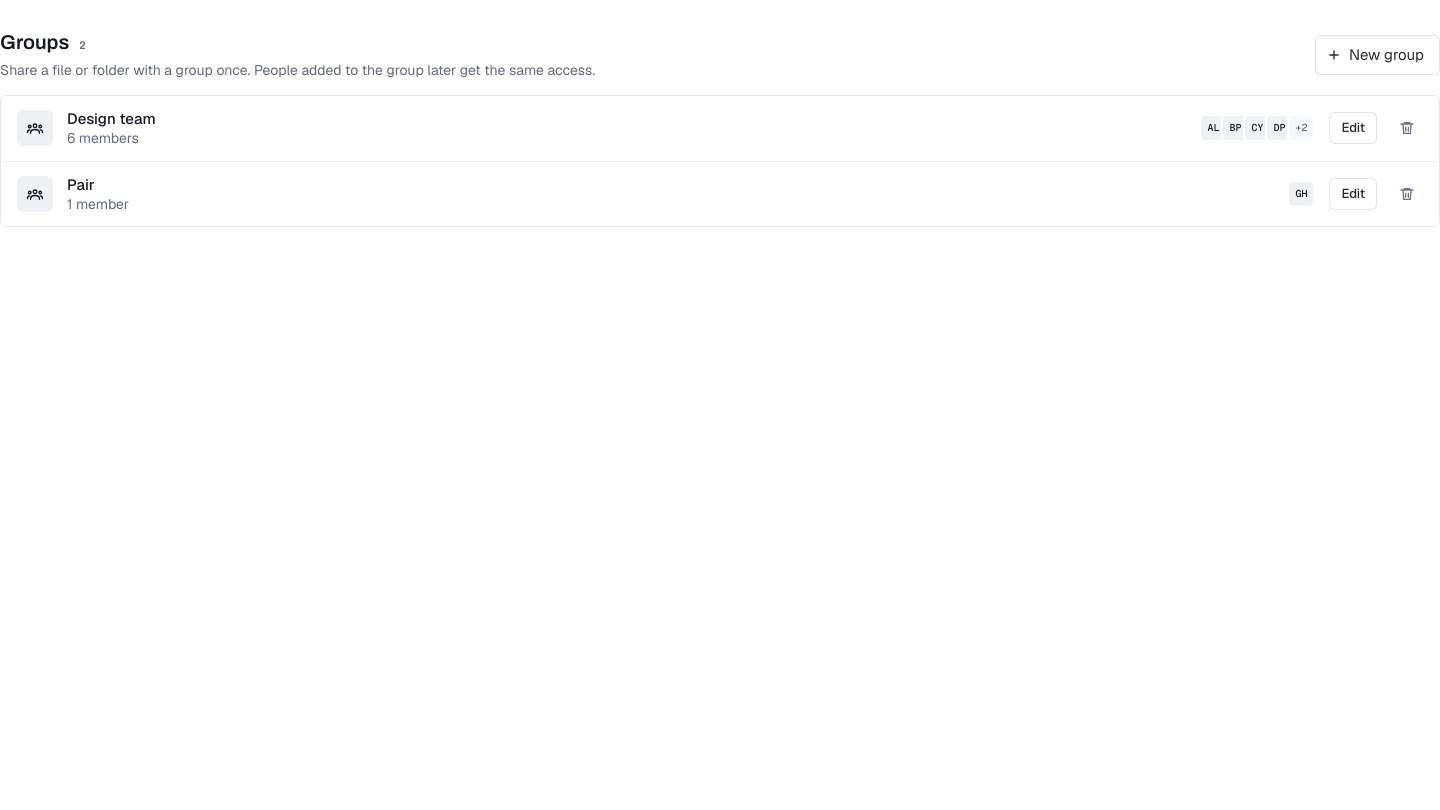
Test: GroupsTab › asks before deleting, and deletes with the toast once confirmed
The image size is (1440, 810).
Click the button named "Delete Design team" at (1407, 128), box [1391,112,1423,144]
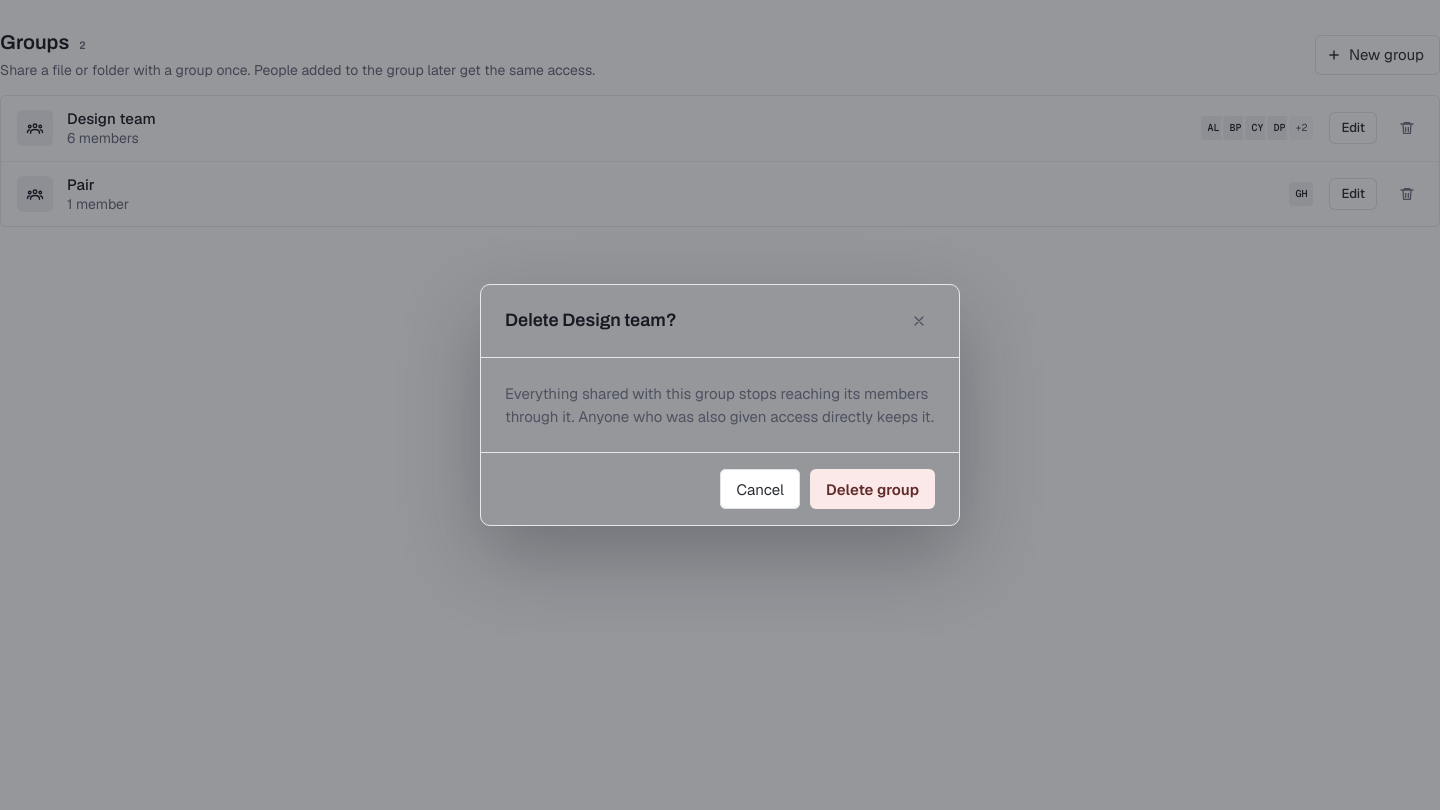
Click the button "Cancel" at (760, 489), box [720,469,800,509]
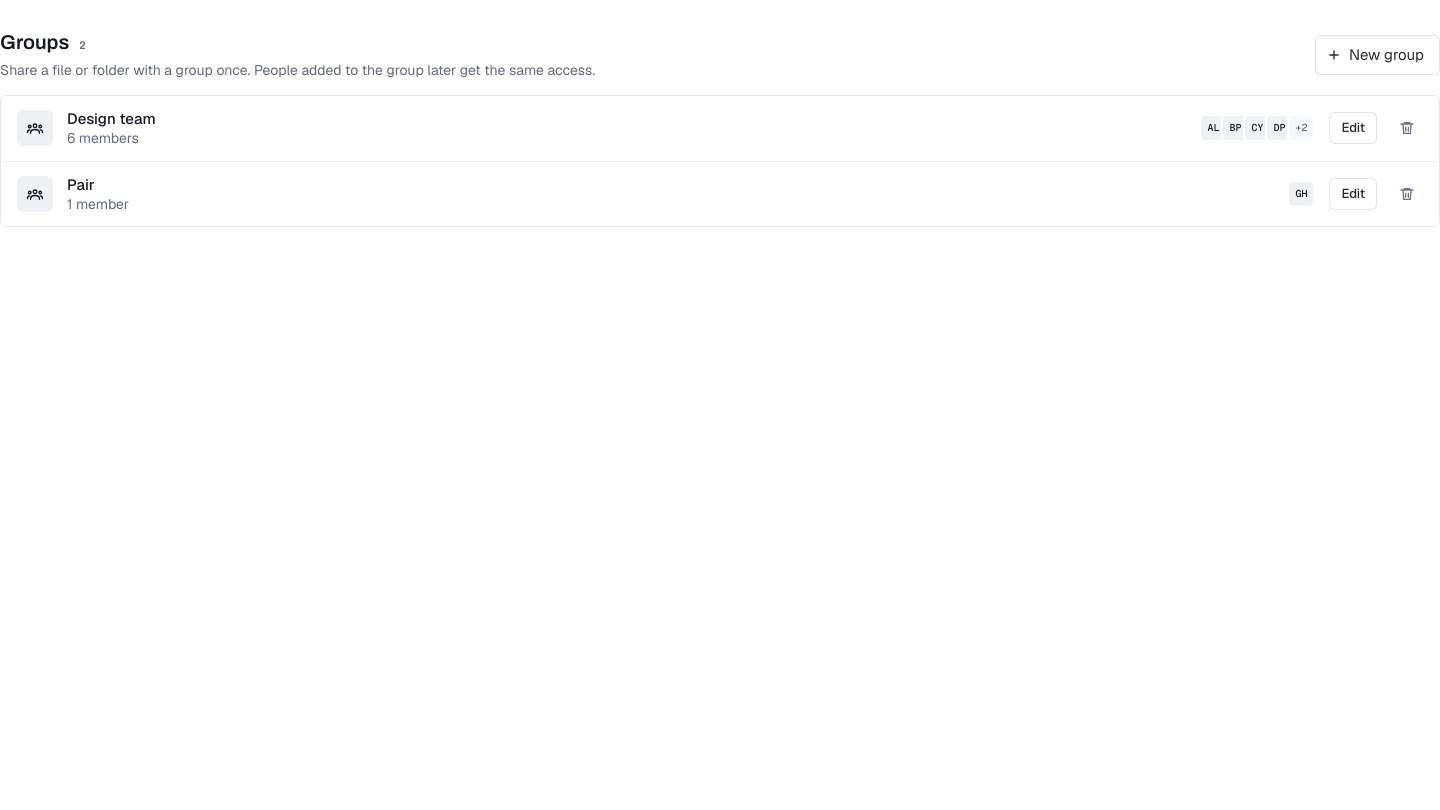
Now the dialog is gone
Click the button named "Delete Design team" at (1407, 128), box [1391,112,1423,144]
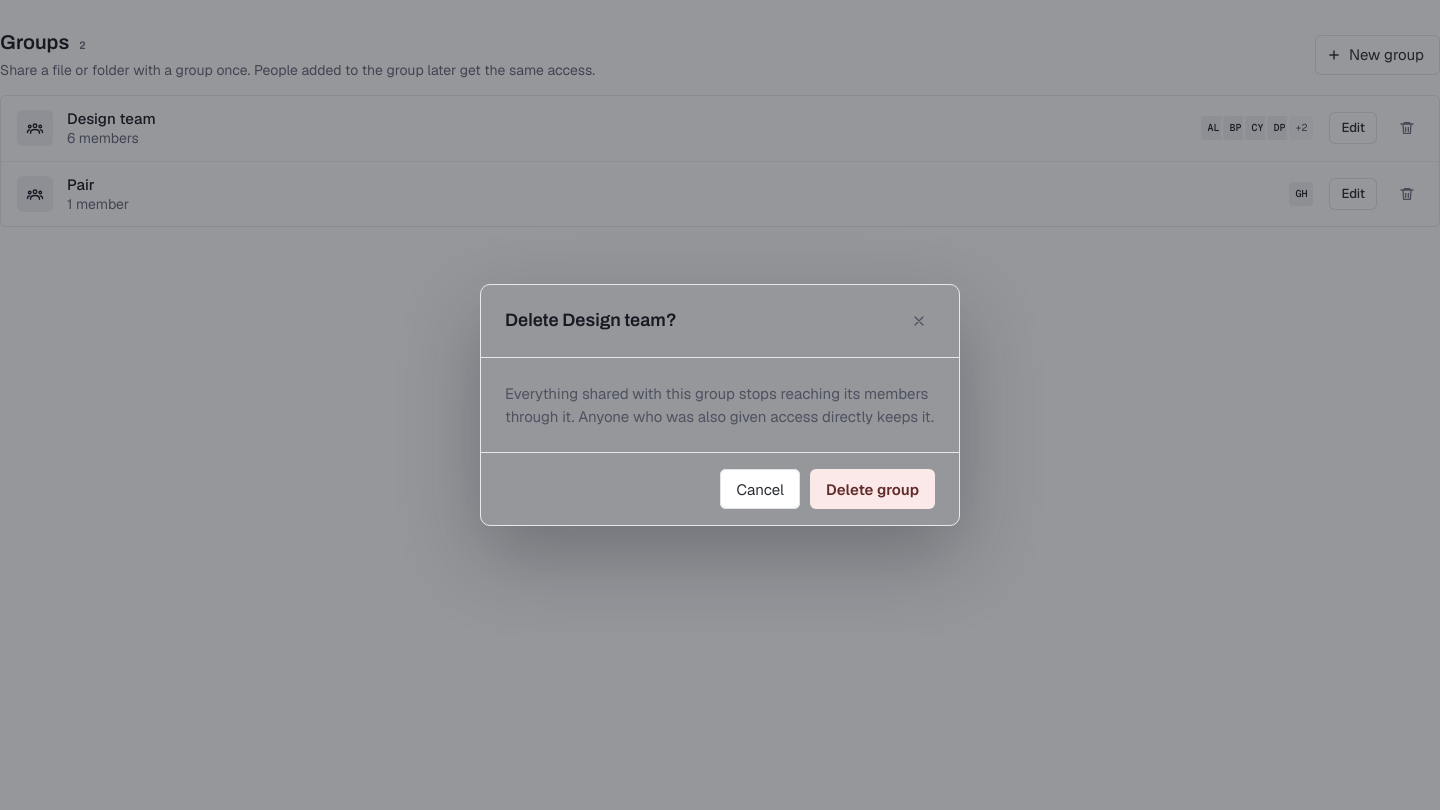
Click the button "Delete group" at (873, 489), box [810,469,935,509]
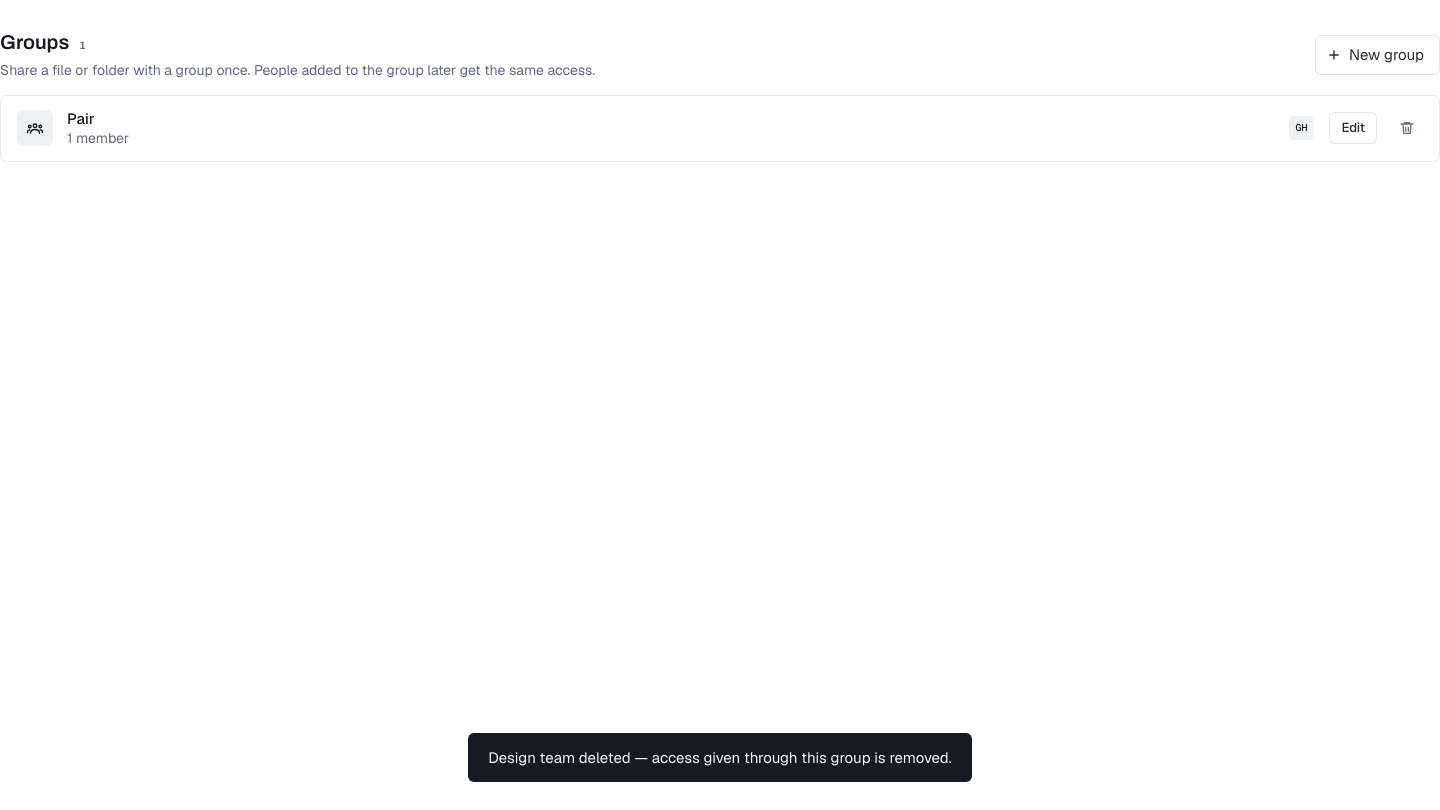
Expected: the text "Pair" is shown, [67,109,95,128]
Now the text "Design team deleted — access given through this group is removed." is shown, box [468,733,972,782]
Now the text "6 members" is gone
